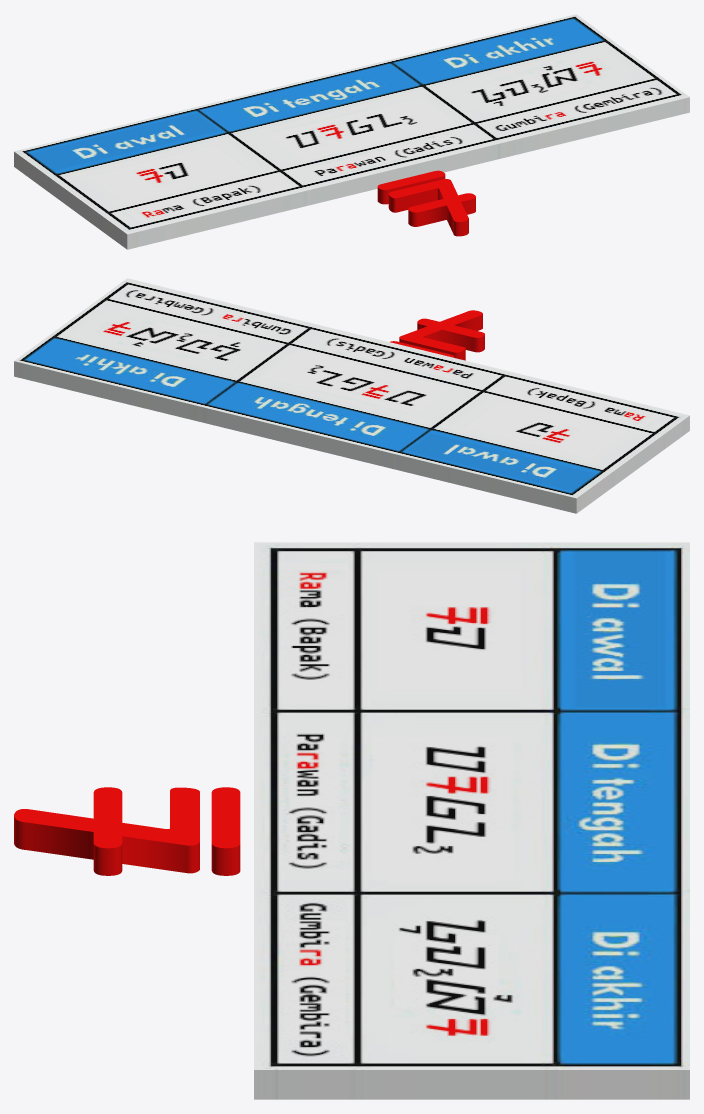
3 renders of one model, top to bottom at view 1: azimuth 30°, elevation 25°; view 2: azimuth 150°, elevation 25°; view 3: azimuth 270°, elevation 25°, orthographic. The views are drawn at different scales.
Visible parts, largest first — view 1: contoh-bunyi-huruf-ra-Ngalagena, Text; view 2: contoh-bunyi-huruf-ra-Ngalagena, Text; view 3: contoh-bunyi-huruf-ra-Ngalagena, Text.
Part boxes in pixels (box(x1,y1,x2,y2)): contoh-bunyi-huruf-ra-Ngalagena: box(14, 14, 689, 249); Text: box(377, 170, 475, 236); contoh-bunyi-huruf-ra-Ngalagena: box(14, 278, 689, 513); Text: box(390, 310, 484, 360); contoh-bunyi-huruf-ra-Ngalagena: box(254, 542, 689, 1099); Text: box(14, 787, 240, 875).
Size of the model in its own units: 2.86 by 0.11 by 1.55.
2 materials, 1 textured.
